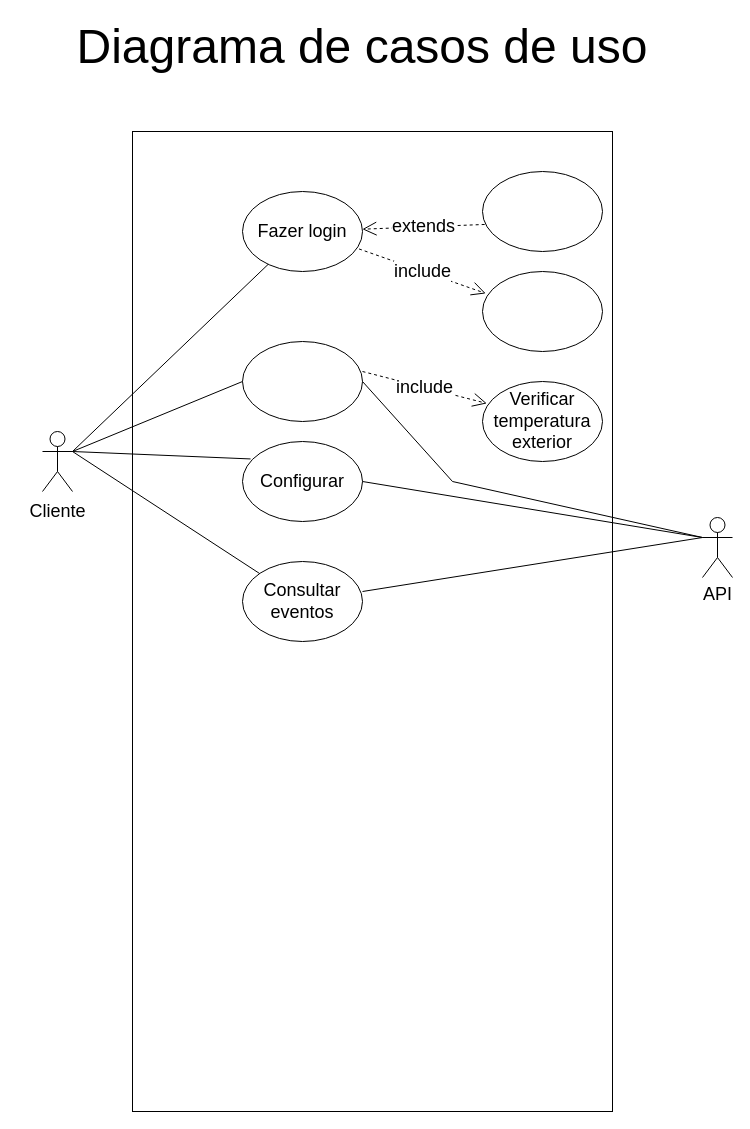
Image size: 750x1129. Some labels were removed from this diagram. Here are the shapes that lost their labels. From the top down, the centre of each, then its label:
(542,211): Exibir erro de login
(542,311): Verificar senha
(302,381): Consultar temp. em tempo real
